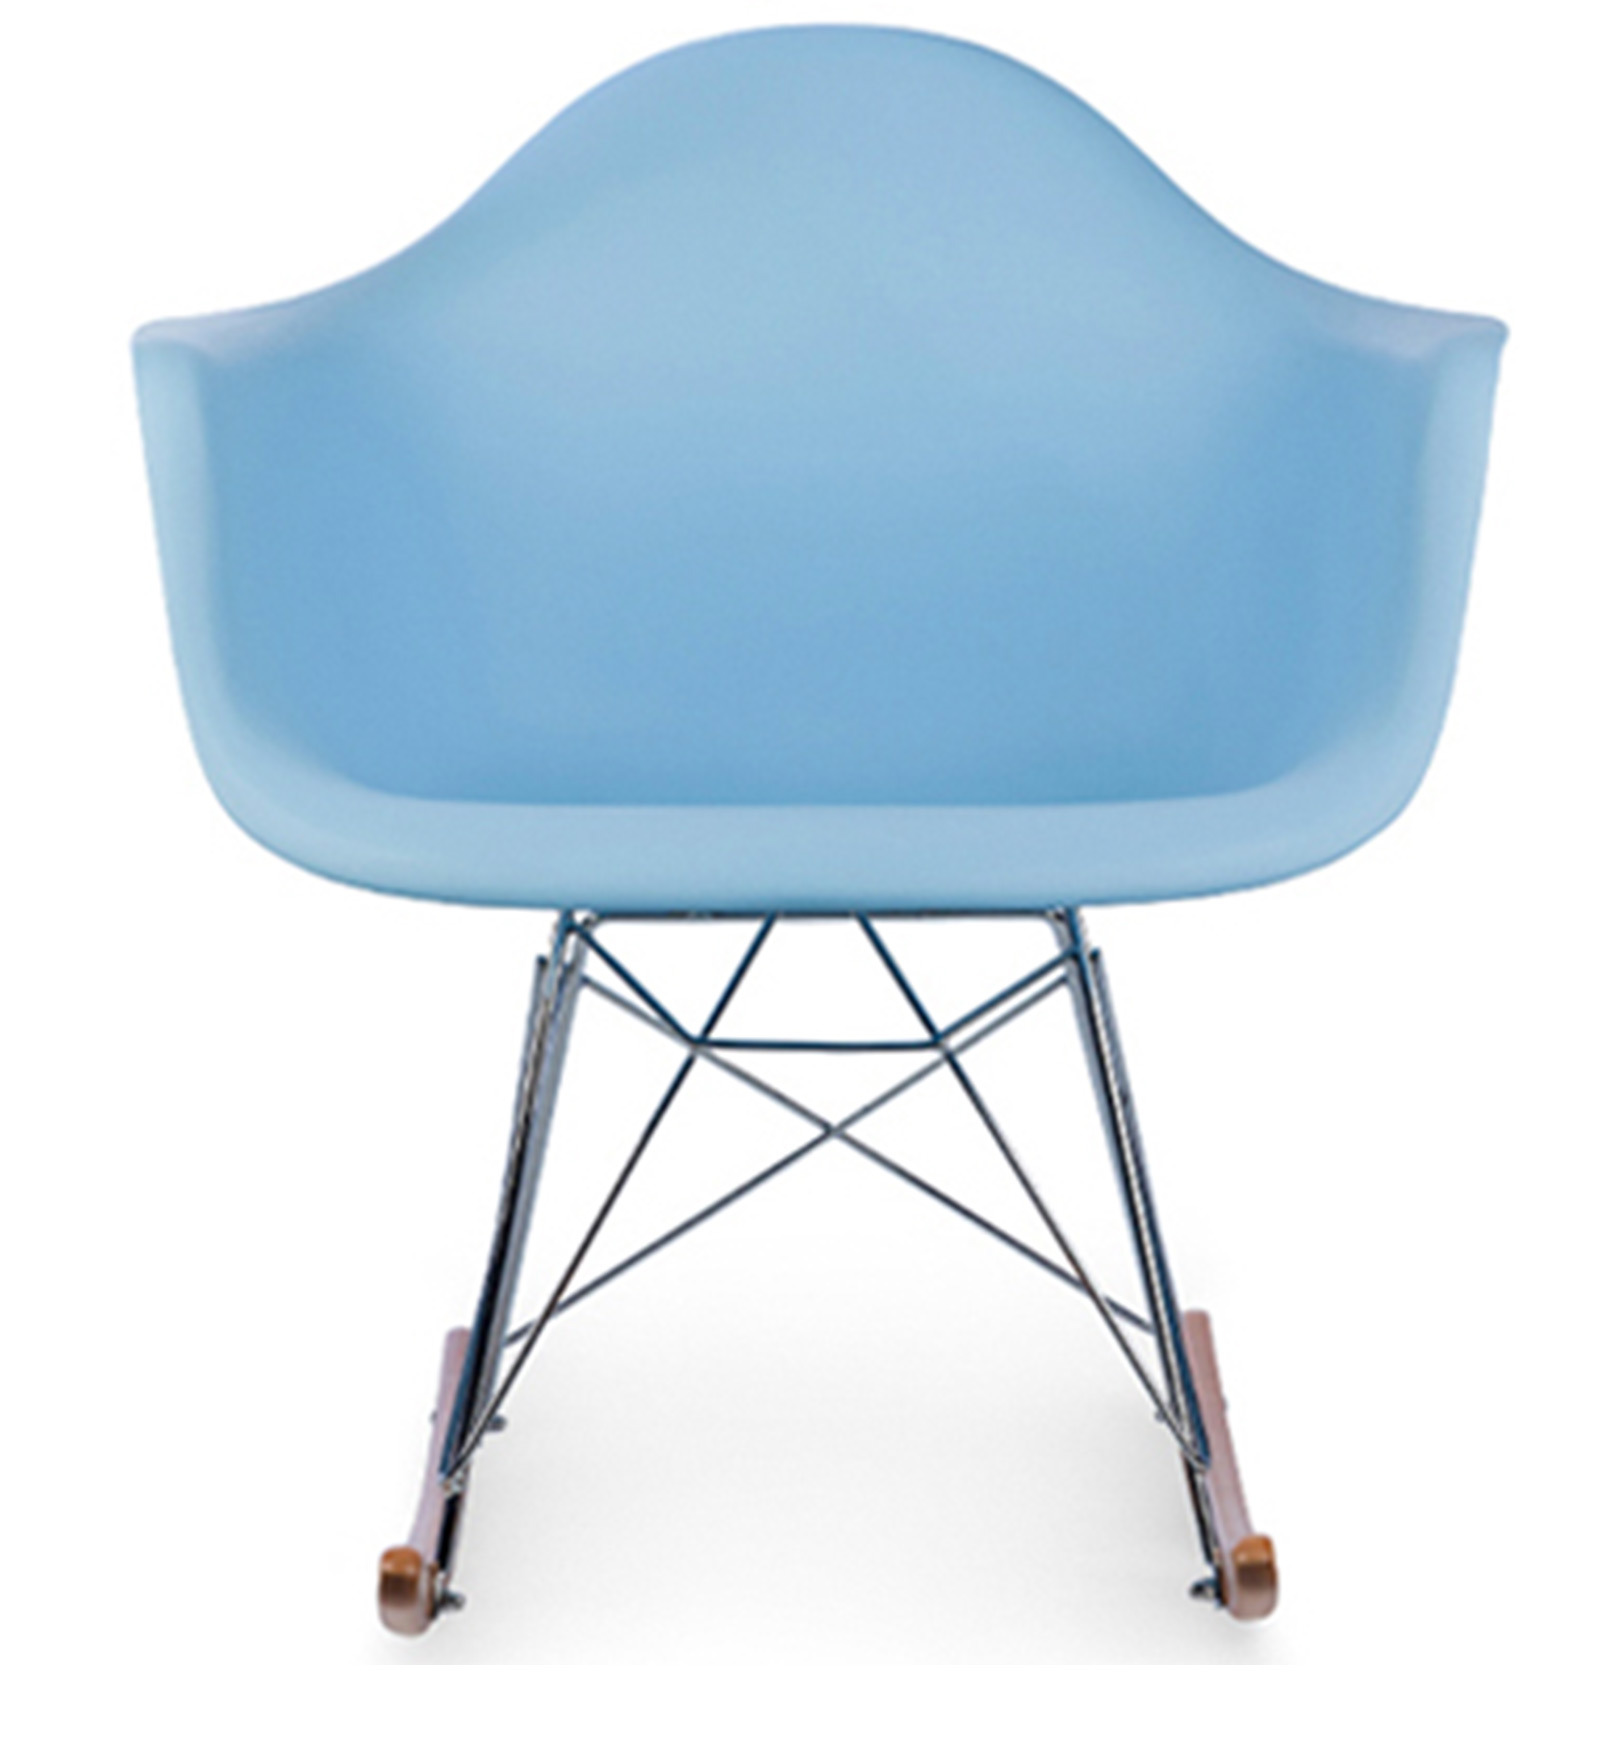Daytona Beach Club Rocking Chair in Robin Blue Colour by HomeHQ: (70, 26, 1546, 1703)
